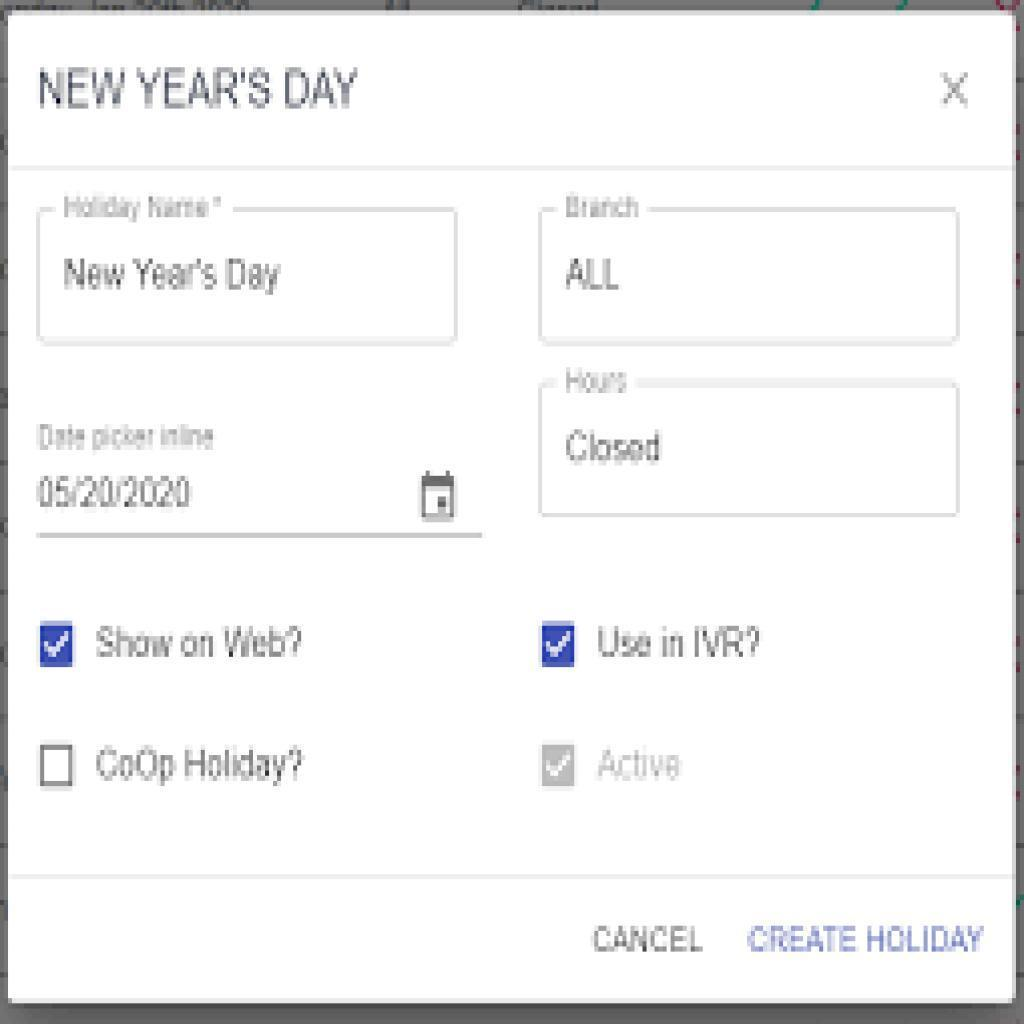checkbox: (39, 624, 77, 668), (540, 624, 576, 666), (542, 745, 574, 790), (40, 746, 74, 787)
icon: (420, 470, 457, 524)
input: (40, 206, 454, 343), (543, 209, 959, 345), (537, 380, 954, 513)
label: (97, 624, 303, 665), (95, 744, 308, 782), (595, 620, 760, 663), (597, 748, 686, 782)
